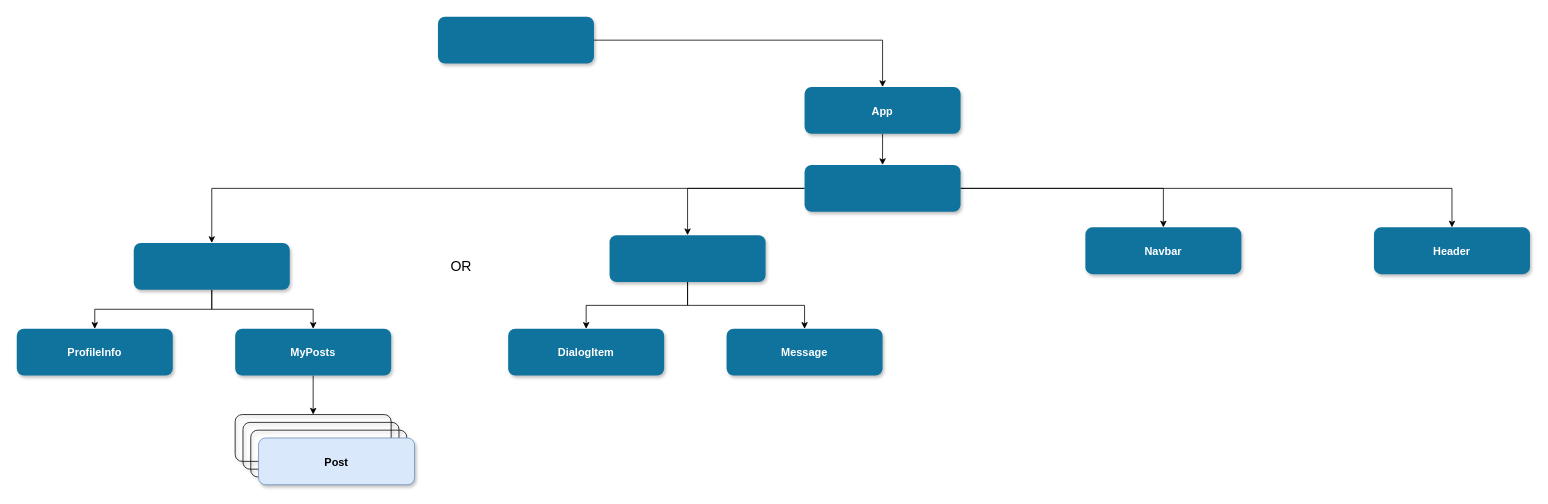
Some shapes in this 1548 by 504 pixel diagram are drawn without their labels. The centre of each missing label's shape, as x and y in pixels:
"BrowserRouter" belongs at (x=883, y=189).
"Dialogs" belongs at (x=688, y=259).
"index.js" belongs at (x=516, y=41).
"Profile" belongs at (x=212, y=267).
